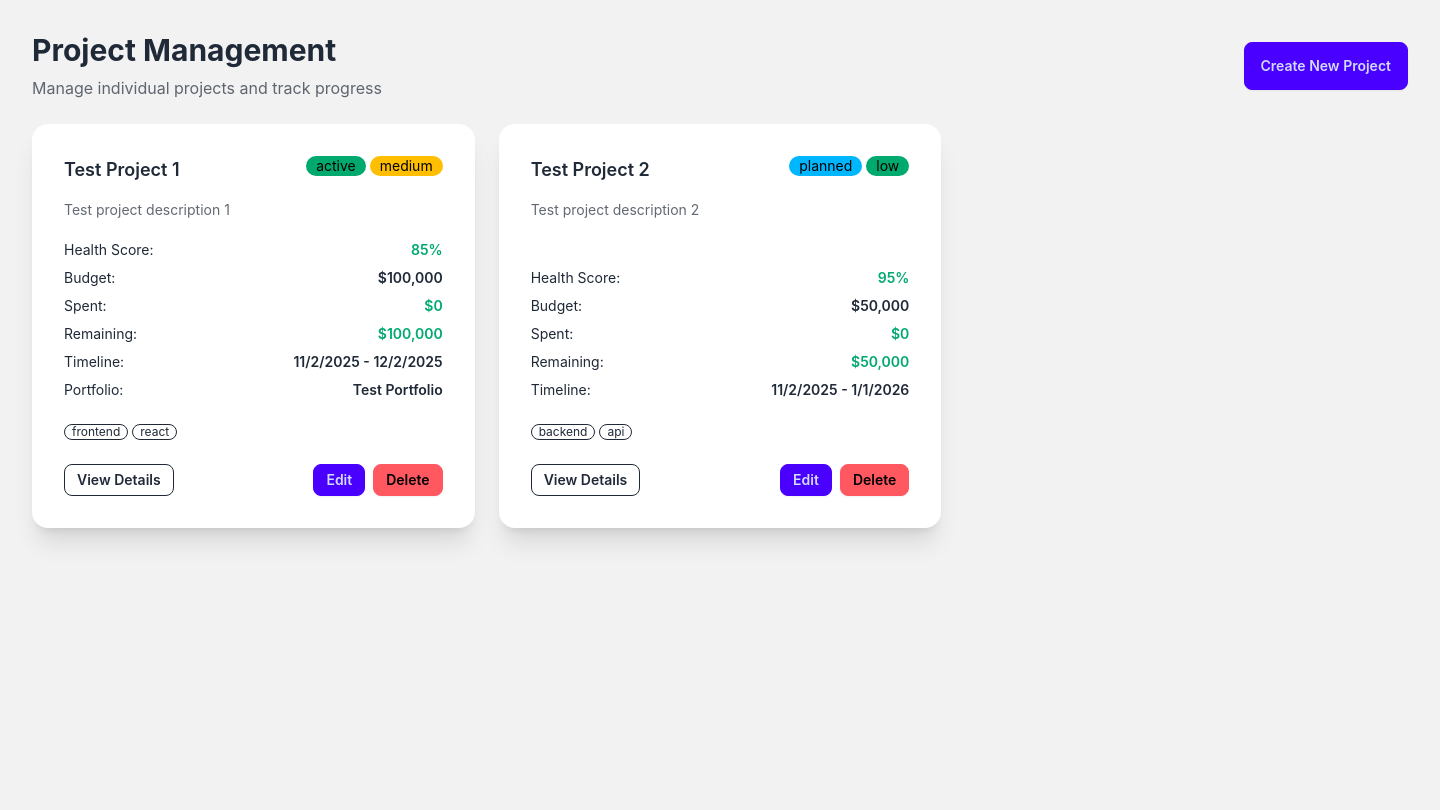
ProjectList › opens edit project modal when edit button is clicked
Click the button "Edit" below "frontend": {"x": 339, "y": 480} [313,464,365,496]
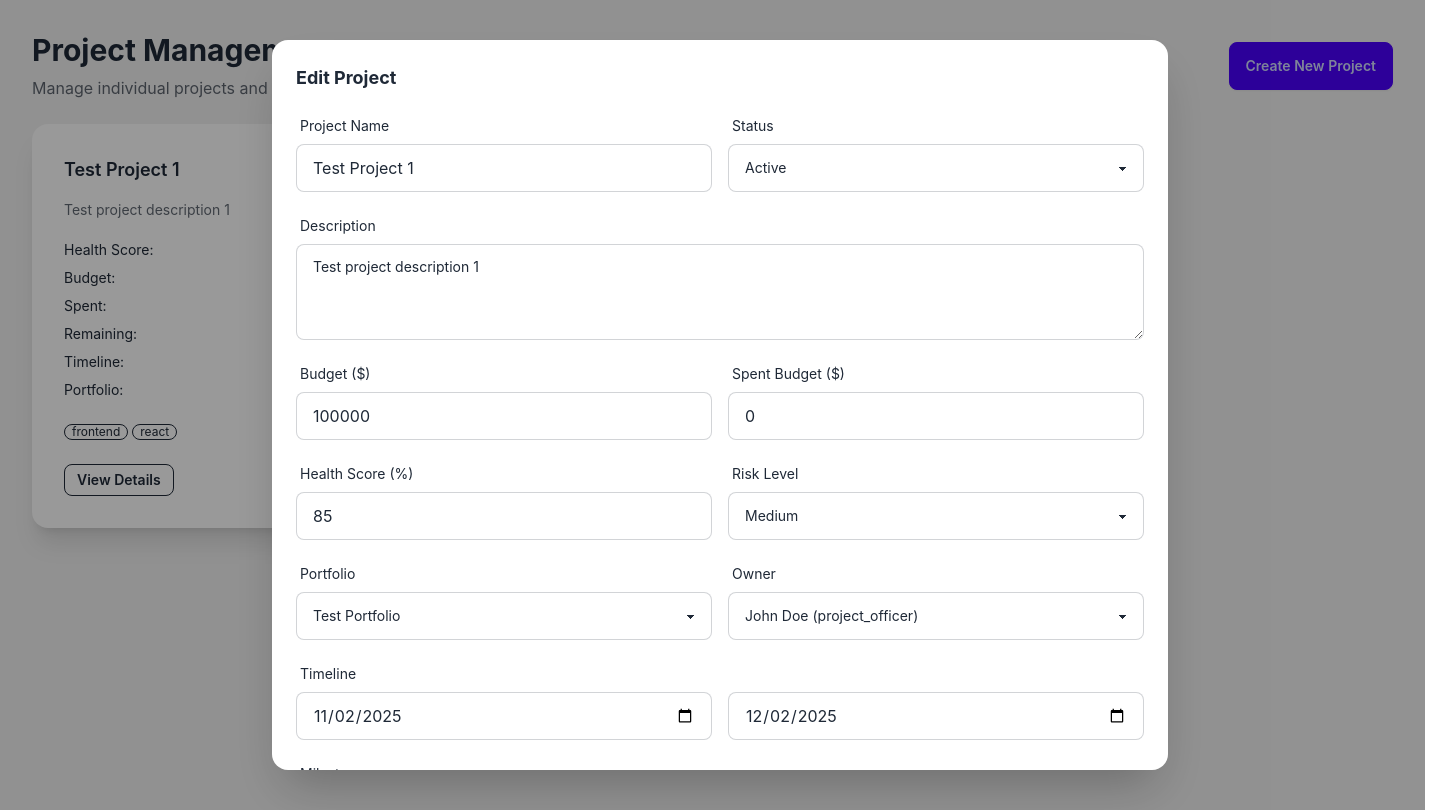
Now the heading "Edit Project" is shown, box [296,67,396,88]
Now the field showing "Test Project 1" is shown, box [296,144,712,192]
Now the text box showing "Test project description 1" is shown, box [296,244,1144,340]
